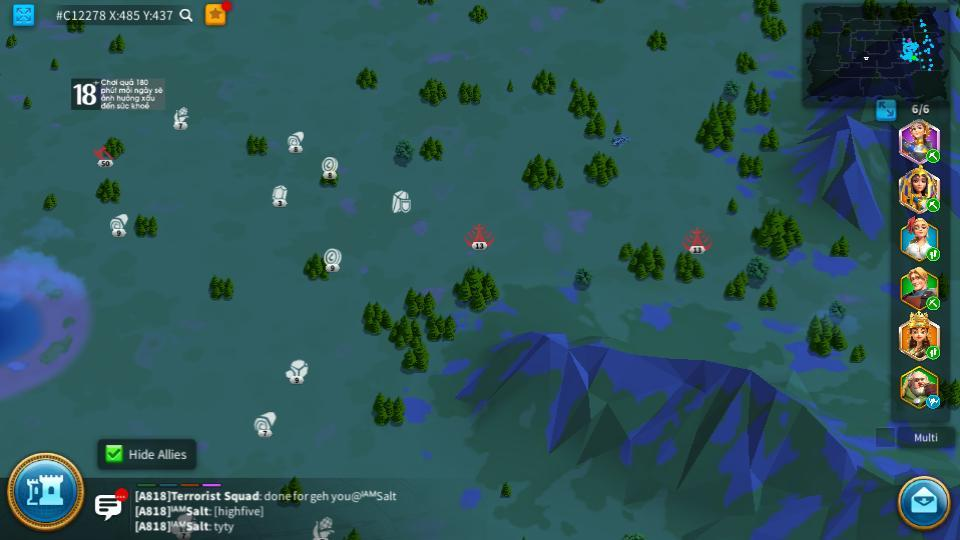gem-z-out: (270, 185, 290, 206)
march_idle: (925, 396, 942, 408)
march_marching: (925, 197, 942, 212), (925, 150, 942, 162), (925, 347, 941, 359), (925, 297, 942, 308)
